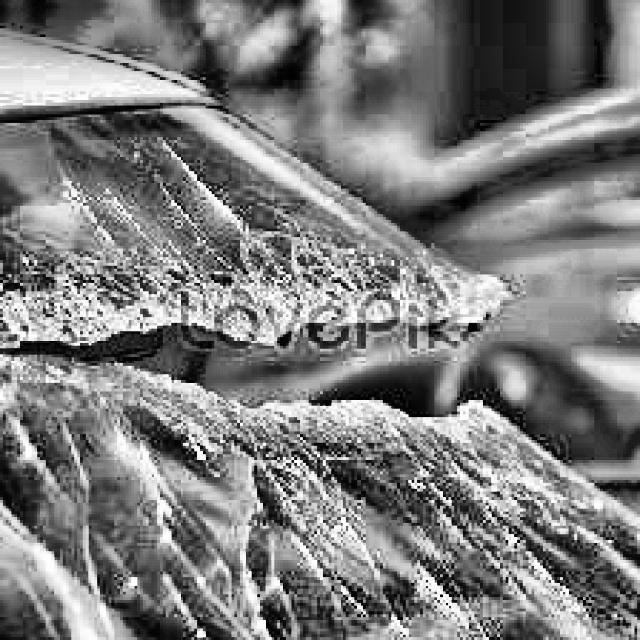glass_shatter: (38, 281, 486, 469)
